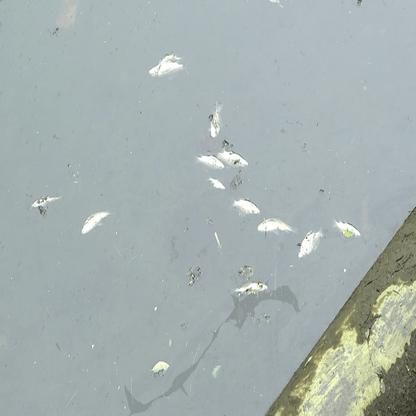deceased fish: (297, 223, 326, 259), (80, 207, 112, 235), (212, 147, 248, 167), (258, 216, 294, 234), (331, 220, 361, 240), (197, 154, 224, 172), (236, 198, 261, 215)
